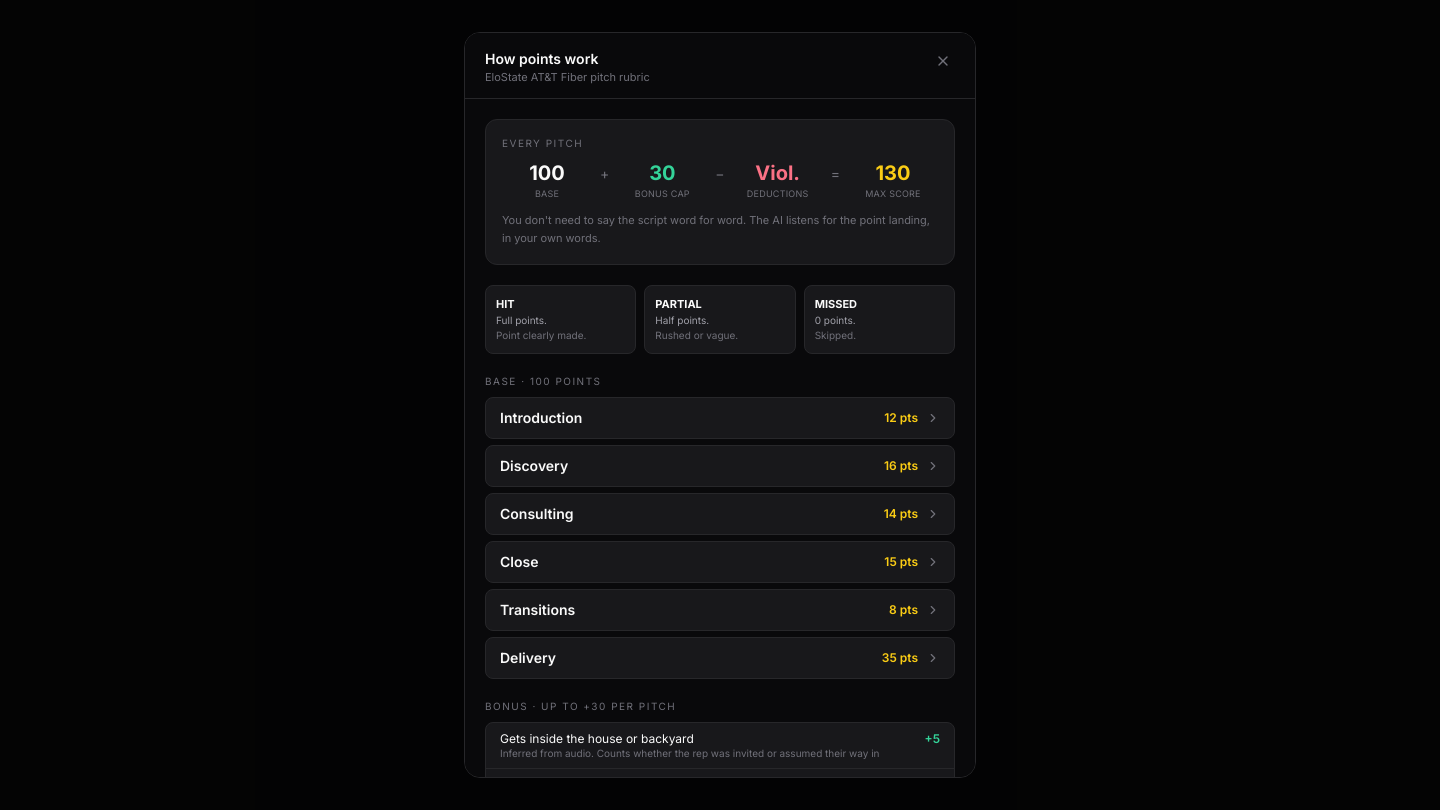
Test: renders the whole rubric from config › reveals every element of a section when it is expanded
Click the button "Close 15 pts" at (519, 561), box [486, 542, 954, 582]
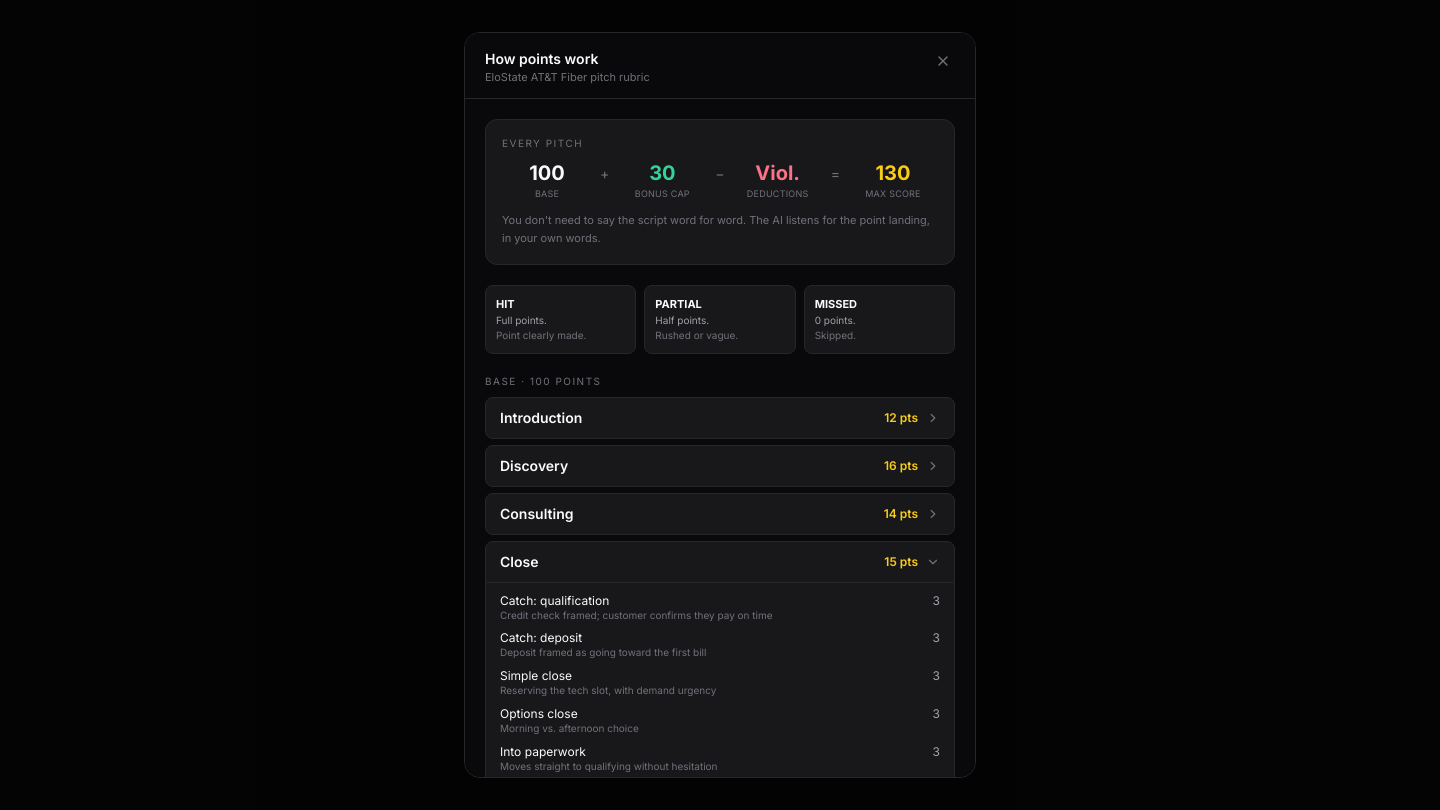
Check: the text "Catch: qualification" is shown, box [500, 593, 609, 608]
Check: the text "Credit check framed; customer confirms they pay on time" is shown, box [500, 609, 773, 622]
Check: the text "Catch: deposit" is shown, box [500, 630, 582, 645]
